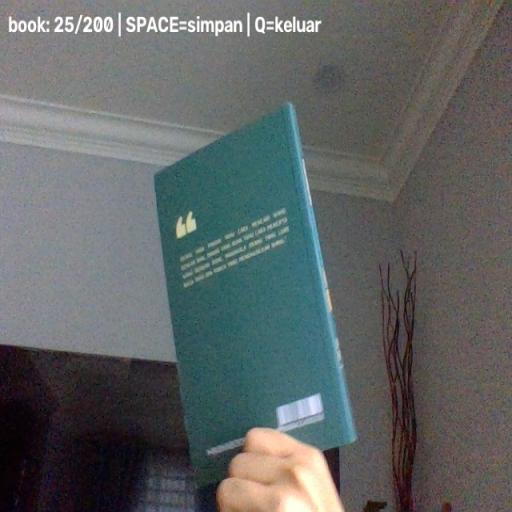Book: (154, 102, 356, 488)
